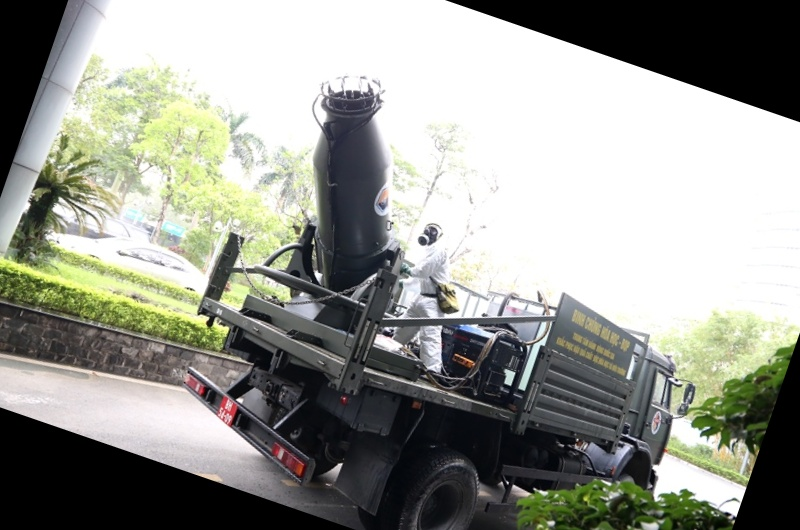plate: (211, 394, 244, 425)
